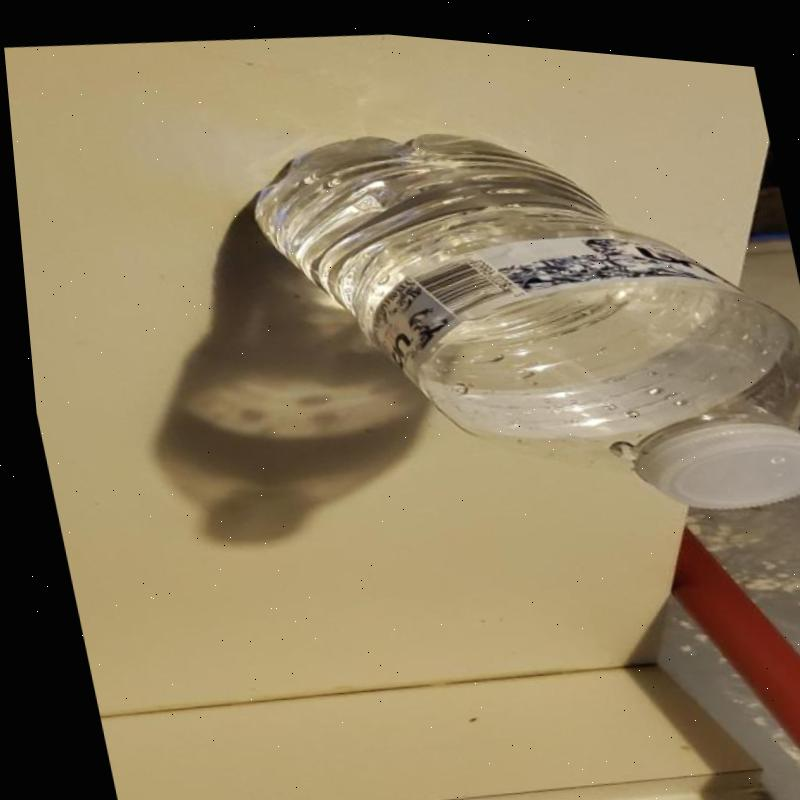botella: (226, 66, 800, 557)
